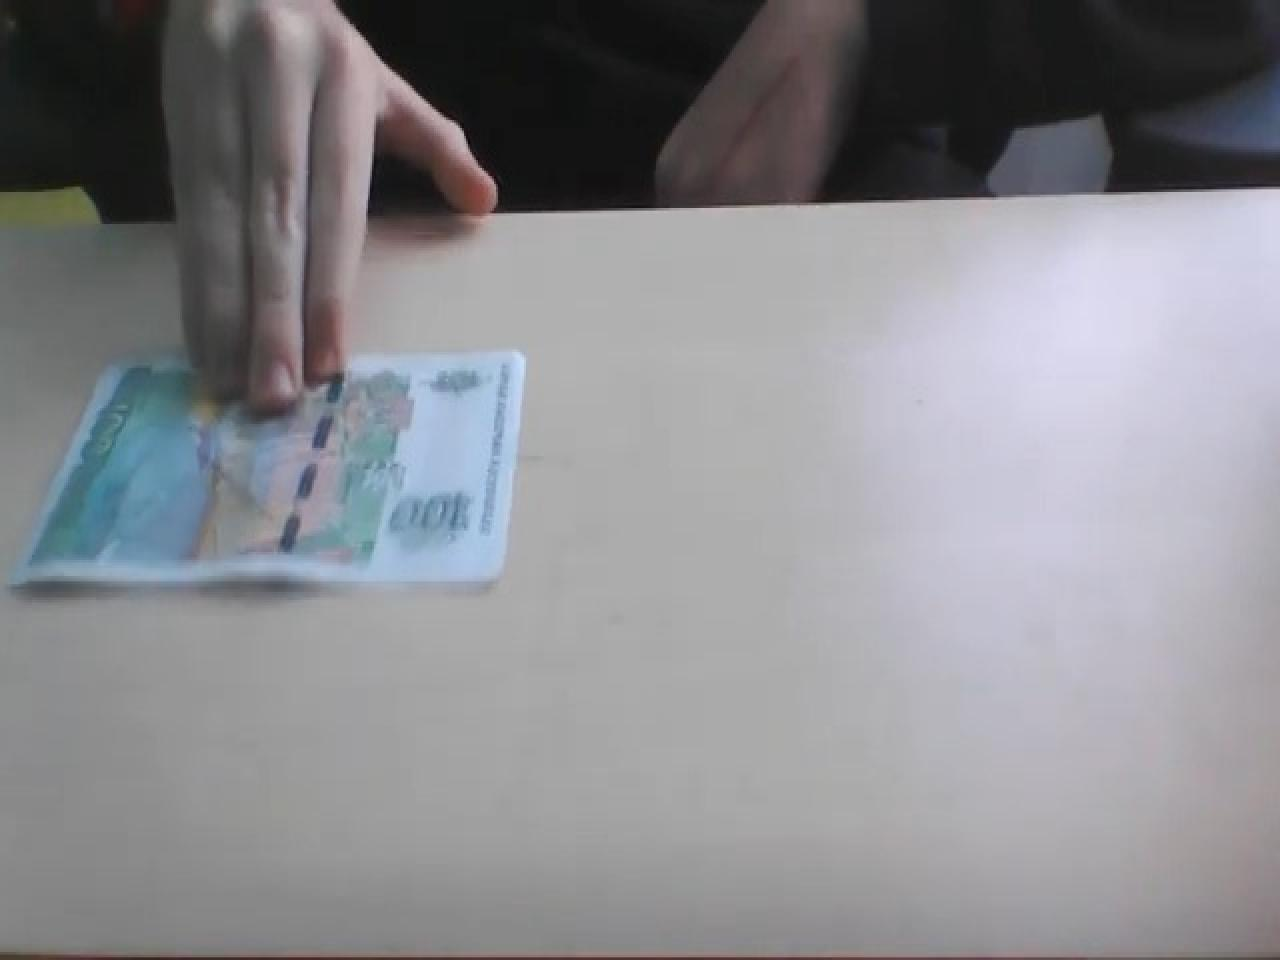100leva: (12, 349, 526, 603)
